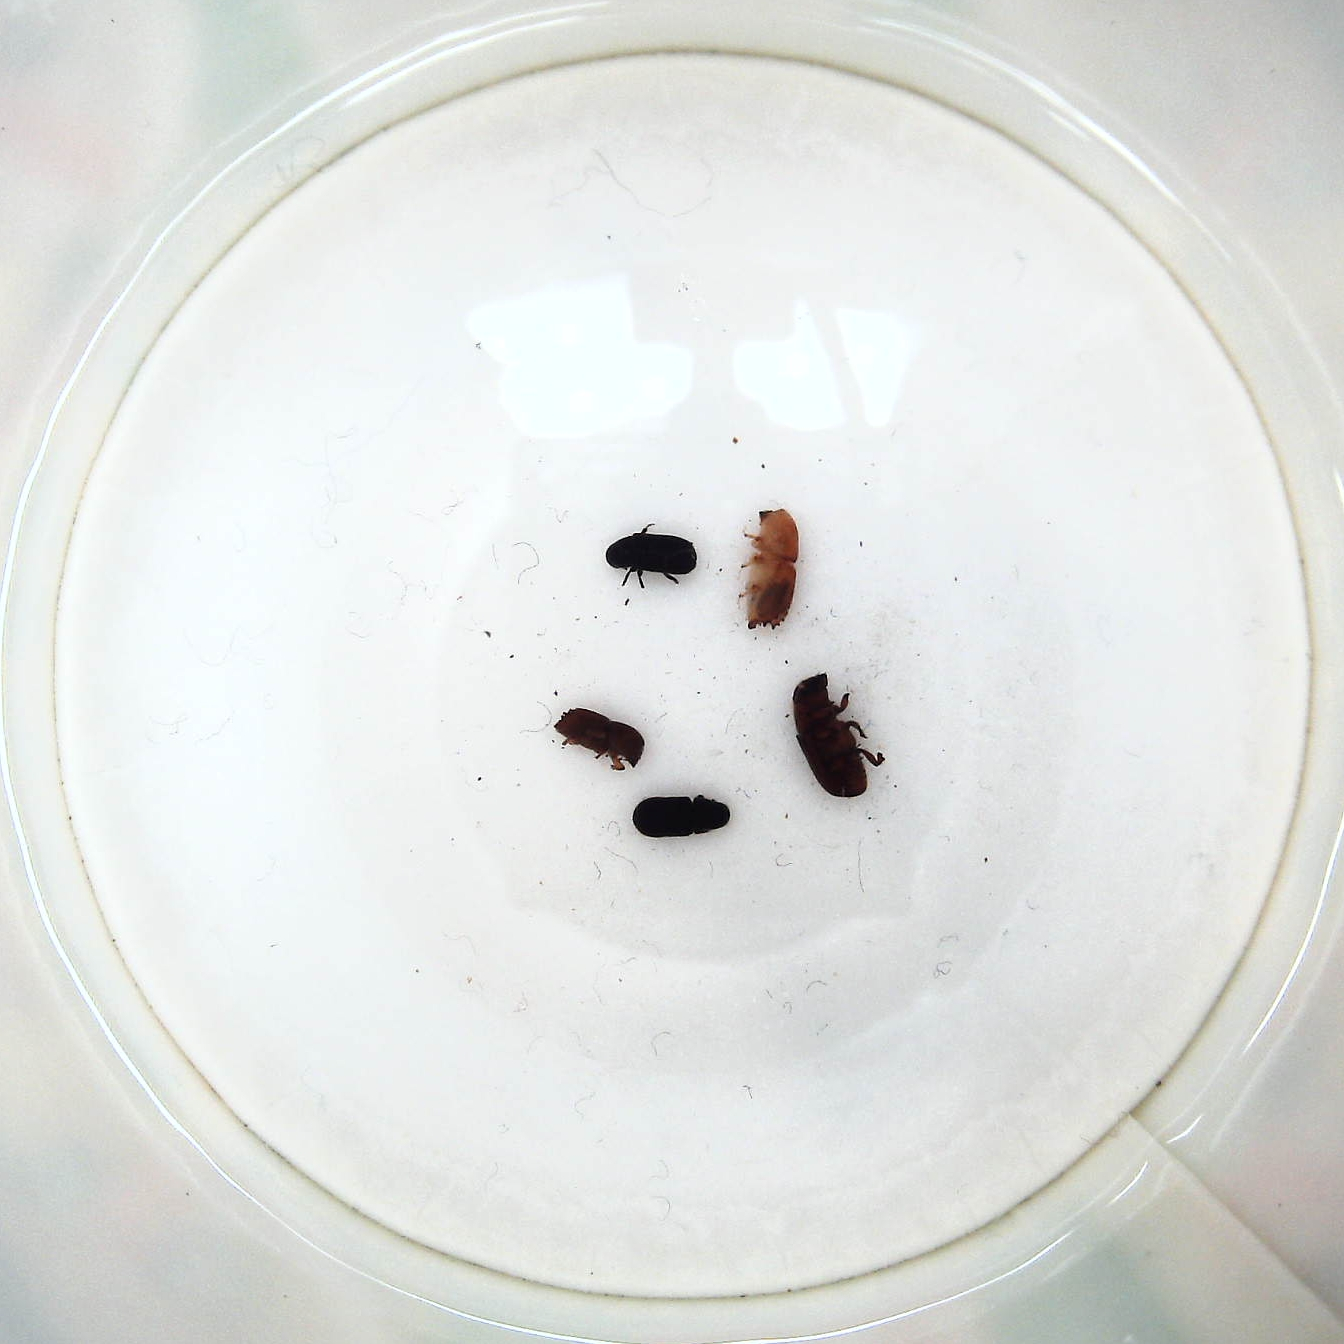Boerner: (737, 498, 807, 636)
Leconte: (789, 670, 884, 804)
armandi: (625, 794, 735, 843)
coleoptera: (601, 523, 699, 594)
linnaeus: (546, 706, 647, 772)
